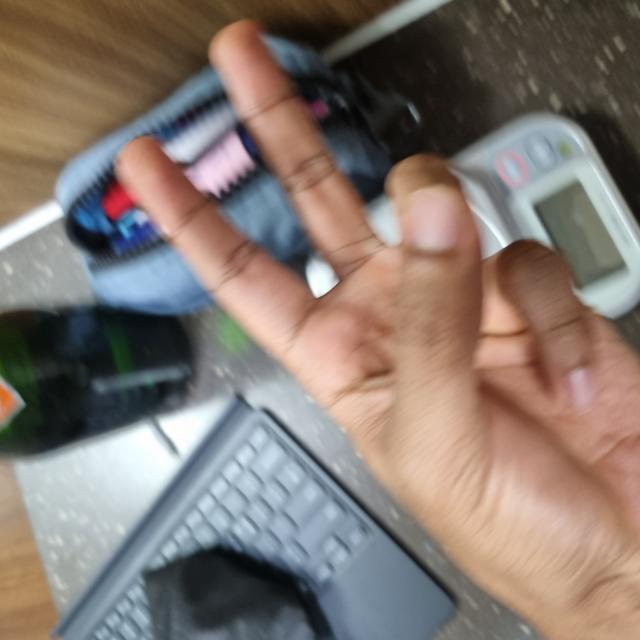Scissors: (4, 118, 611, 640)
